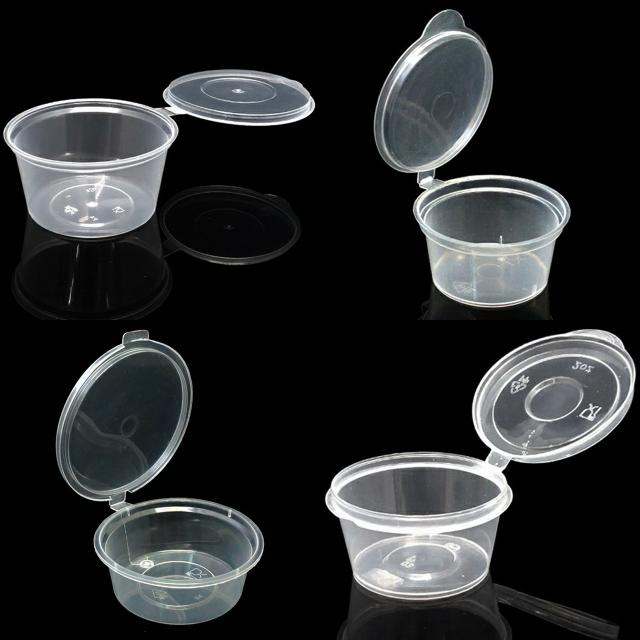Single-Use-Plastic: (326, 330, 635, 600), (4, 99, 178, 238), (56, 330, 192, 502), (94, 499, 264, 624), (414, 175, 570, 307), (374, 10, 492, 174), (164, 70, 315, 125)
